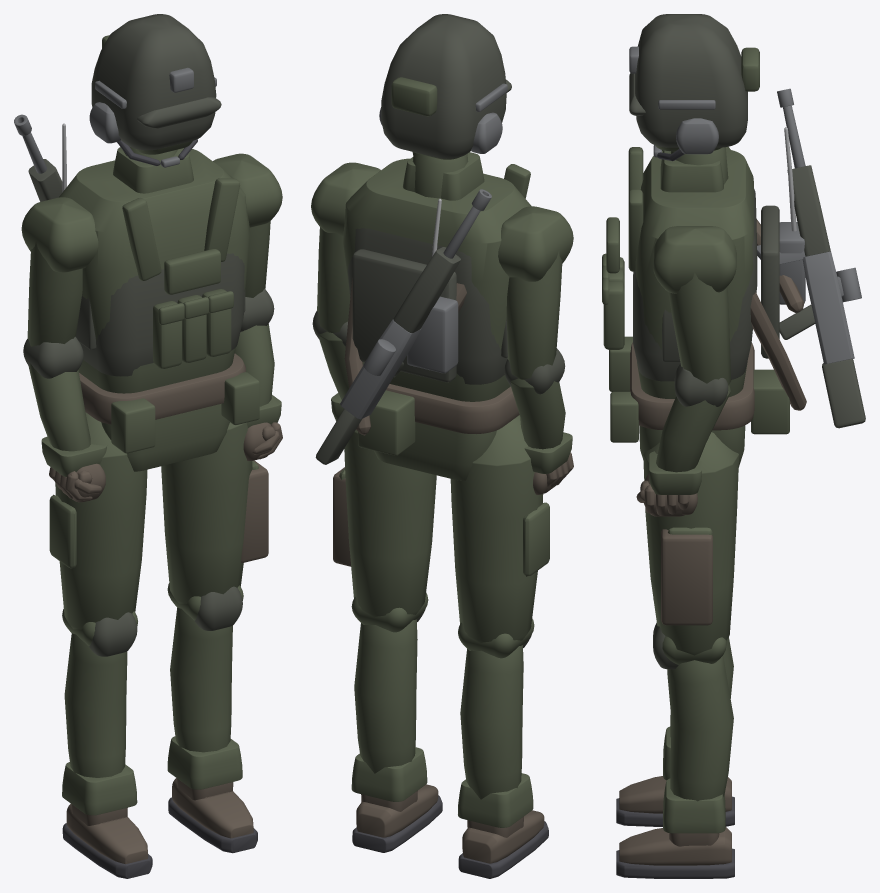
File: operator.fbx
3 views of the same model, side by side, from view 1: azimuth 30°, elevation 25°; view 2: azimuth 150°, elevation 25°; view 3: azimuth 270°, elevation 25° (orthographic).
Visible parts, largest first — view 1: Body, ShinL, ShinR, ThighR, ThighL, UpperArmL, ForearmL, ForearmR, UpperArmR; view 2: Body, ThighL, ShinL, ShinR, ThighR, UpperArmL, ForearmL, UpperArmR, ForearmR; view 3: Body, ShinR, ThighR, UpperArmR, ForearmR, ShinL.
Boxes of the visible parts, bbox=[...] form: Body: bbox=[14, 14, 259, 471]; ShinL: bbox=[62, 609, 152, 878]; ShinR: bbox=[167, 583, 257, 853]; ThighR: bbox=[161, 422, 268, 603]; ThighL: bbox=[49, 412, 147, 629]; UpperArmL: bbox=[21, 197, 98, 346]; ForearmL: bbox=[23, 336, 106, 502]; ForearmR: bbox=[234, 288, 282, 460]; UpperArmR: bbox=[213, 153, 282, 297]; Body: bbox=[315, 14, 531, 480]; ThighL: bbox=[450, 415, 549, 643]; ShinL: bbox=[458, 618, 548, 878]; ShinR: bbox=[351, 592, 442, 852]; ThighR: bbox=[333, 430, 436, 617]; UpperArmL: bbox=[498, 206, 573, 379]; ForearmL: bbox=[504, 348, 573, 494]; UpperArmR: bbox=[311, 162, 380, 332]; ForearmR: bbox=[312, 311, 349, 421]; Body: bbox=[602, 14, 865, 467]; ShinR: bbox=[616, 622, 734, 878]; ThighR: bbox=[643, 432, 738, 655]; UpperArmR: bbox=[653, 226, 736, 385]; ForearmR: bbox=[636, 363, 730, 516]; ShinL: bbox=[616, 599, 734, 826].
Size of the model in its own units: 0.5251 by 1.74 by 0.5061.
